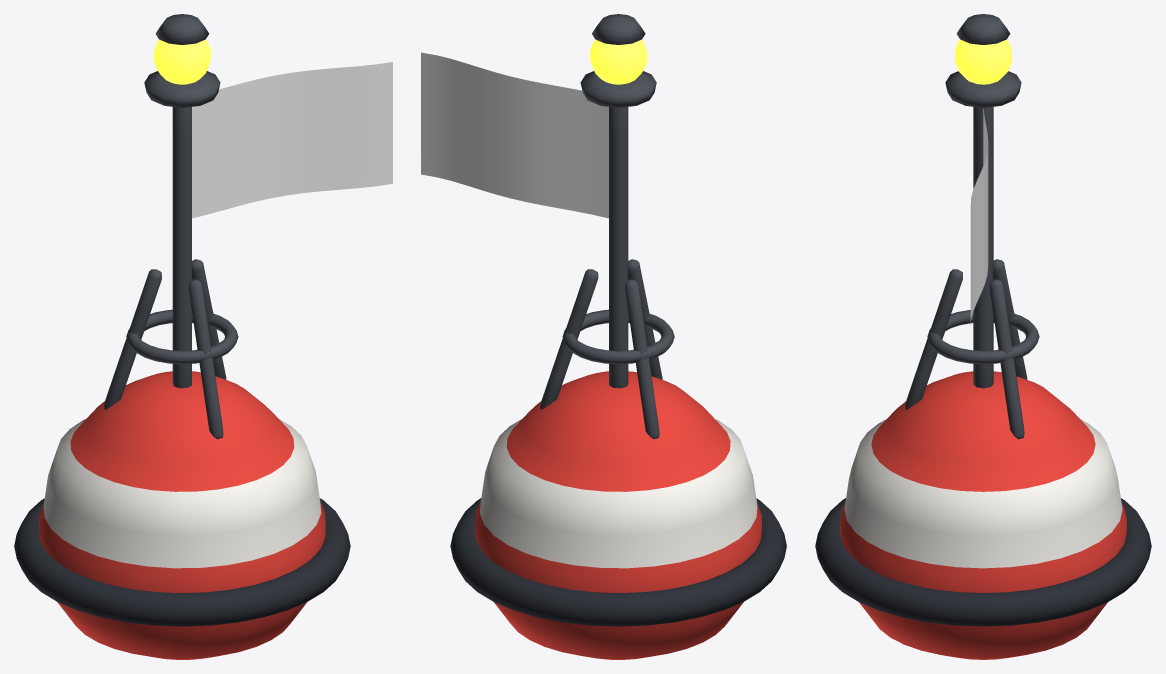
Rendered from buoy.glb.
The picture shows the model from 3 angles, left to right: view 1: azimuth 30°, elevation 25°; view 2: azimuth 150°, elevation 25°; view 3: azimuth 270°, elevation 25°; orthographic projection.
Parts seen in each view (by area): view 1: Buoy, Flag; view 2: Buoy, Flag; view 3: Buoy, Flag.
Boxes of the visible parts, x1=… form: Buoy: x1=14, y1=14, x2=350, y2=659; Flag: x1=192, y1=62, x2=392, y2=218; Buoy: x1=450, y1=14, x2=786, y2=659; Flag: x1=421, y1=52, x2=608, y2=218; Buoy: x1=815, y1=14, x2=1151, y2=659; Flag: x1=970, y1=108, x2=988, y2=325.
Bounding box in the file's own units: 1.8 × 3.04 × 1.5.
